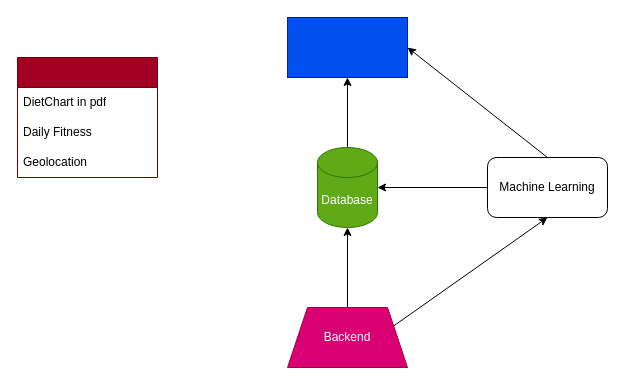
The diagram is 625 pixels wide and 385 high, and some of its shapes have lost their labels. The shapes that lost their labels are listed below. From the top down, each one's box as (x1, y1, x2, y2) in pixels, then its label:
(286, 16, 408, 78): FrontEnd
(16, 56, 158, 178): Funtionalities
